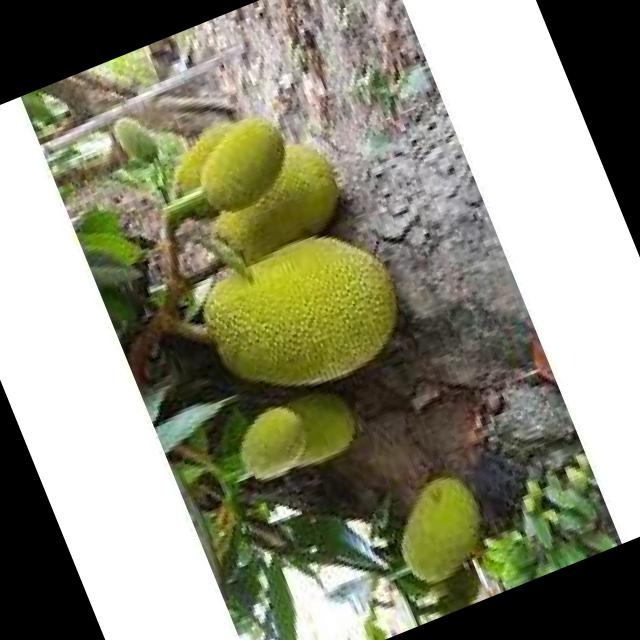Fruit: (171, 194, 440, 434), (360, 444, 521, 610)
